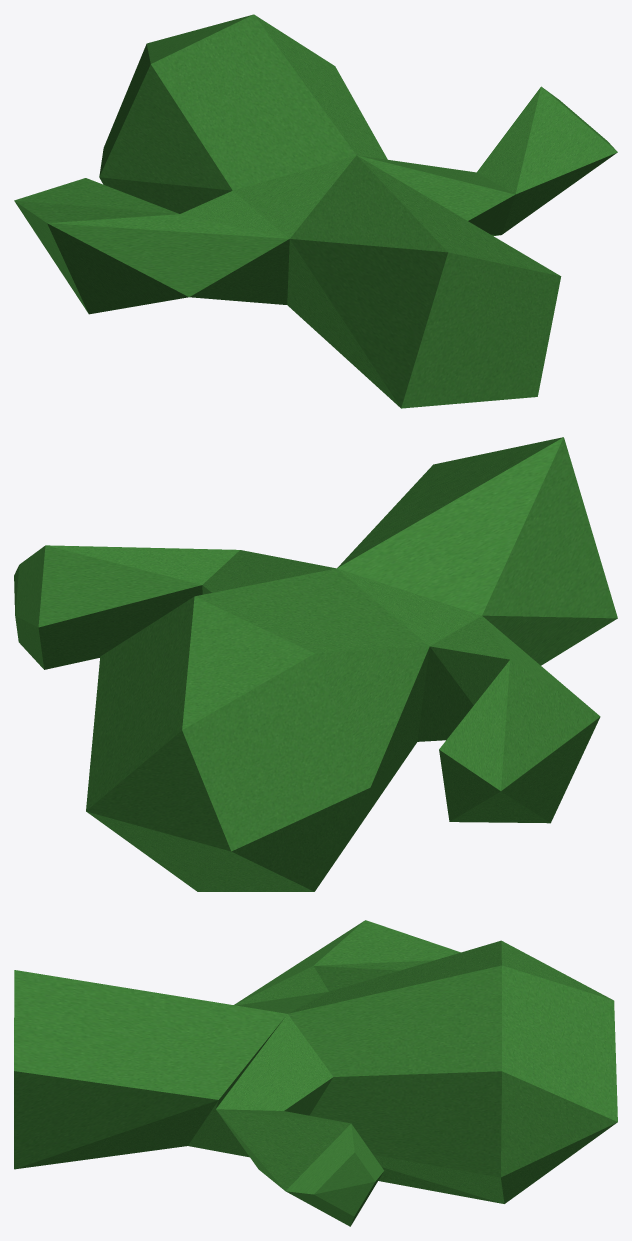
The model's file is desert_share_cauts_1.FBX.
3 renders of one model, top to bottom at view 1: azimuth 30°, elevation 25°; view 2: azimuth 150°, elevation 25°; view 3: azimuth 270°, elevation 25°, orthographic. The views are drawn at different scales.
Visible parts, largest first — view 1: cactus_1; view 2: cactus_1; view 3: cactus_1.
Part boxes in pixels (x1,y1,x2,y2): cactus_1: (14,14,617,408); cactus_1: (14,437,617,891); cactus_1: (14,920,617,1226).
Size of the model in its own units: 47.59 by 21.57 by 49.08.
